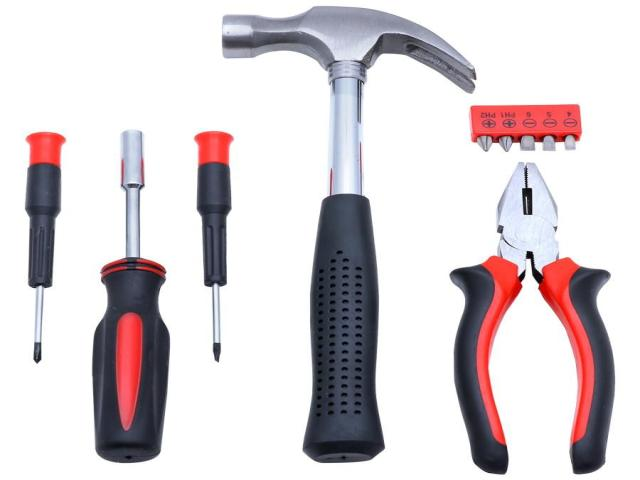Hammer: (222, 7, 475, 462)
Pliers: (450, 162, 615, 474)
Screwdriver: (92, 130, 169, 462), (25, 132, 65, 361), (196, 132, 232, 362)
